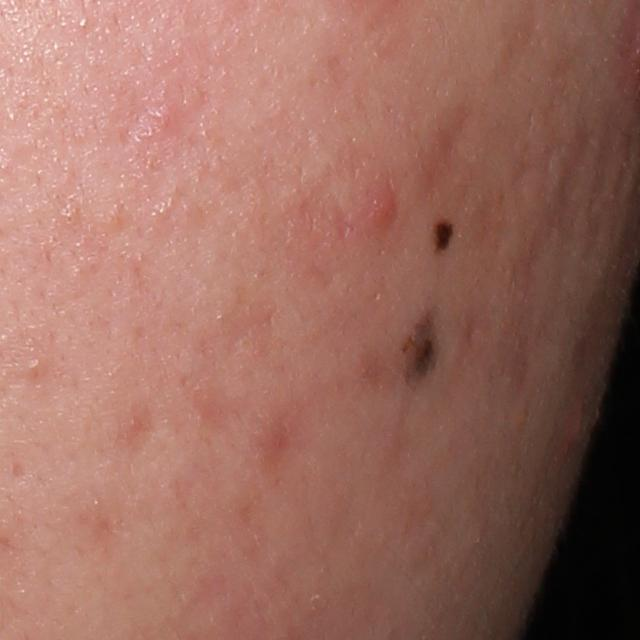papule: (549, 400, 581, 470), (368, 183, 397, 234)
